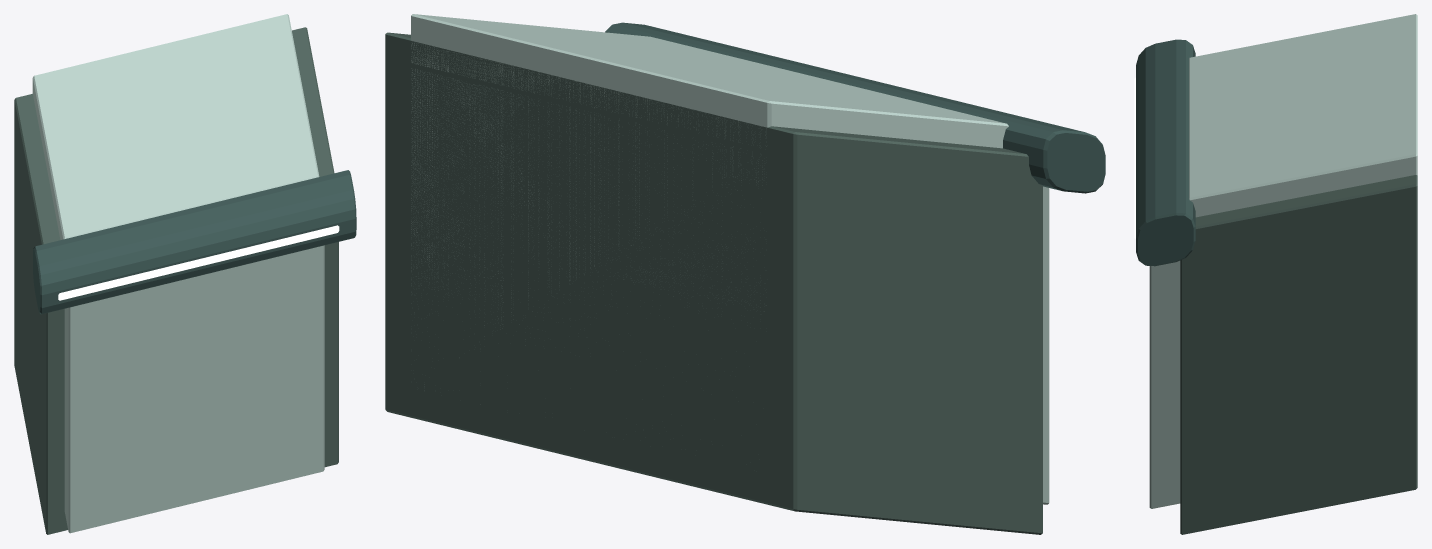
File: Terrain_TopRun1LR.gltf
3 views of the same model, side by side, from view 1: azimuth 30°, elevation 25°; view 2: azimuth 150°, elevation 25°; view 3: azimuth 270°, elevation 25° (orthographic). The views are drawn at different scales.
Parts seen in each view (by area): view 1: Terrain_TopRun1LR_baked; view 2: Terrain_TopRun1LR_baked; view 3: Terrain_TopRun1LR_baked.
Part boxes in pixels (bbox=[...]): Terrain_TopRun1LR_baked: bbox=[14, 14, 356, 534]; Terrain_TopRun1LR_baked: bbox=[385, 14, 1105, 534]; Terrain_TopRun1LR_baked: bbox=[1134, 14, 1417, 534].
Bounding box in the file's own units: 1.33 × 1.18 × 0.74.
